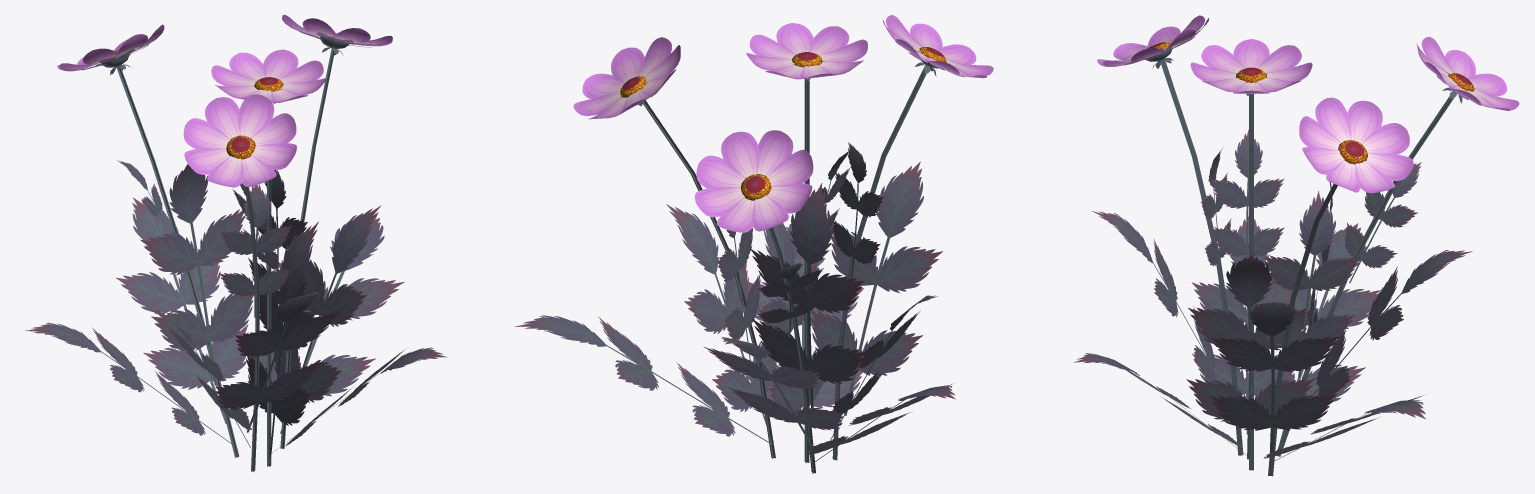
Rendered from dahlias.glb.
The picture shows the model from 3 angles, left to right: view 1: azimuth 30°, elevation 25°; view 2: azimuth 150°, elevation 25°; view 3: azimuth 270°, elevation 25°; orthographic projection. The views are drawn at different scales.
Visible parts, largest first — view 1: DahliaFinal__1_:pPlane52, DahliaFinal__1_:pPlane55, DahliaFinal__1_:pPlane53, DahliaFinal__1_:pPlane24, DahliaFinal__1_:pPlane44, pPlane53, DahliaFinal__1_:pPlane60, DahliaFinal__1_:pPlane54, DahliaFinal__1_:pPlane61, DahliaFinal__1_:pPlane57, DahliaFinal__1_:pPlane50, DahliaFinal__1_:pPlane56 (+15 smaller); view 2: DahliaFinal__1_:pPlane24, DahliaFinal__1_:pPlane52, DahliaFinal__1_:pPlane53, DahliaFinal__1_:pPlane60, DahliaFinal__1_:pPlane44, DahliaFinal__1_:pPlane55, DahliaFinal__1_:pPlane54, pPlane53, DahliaFinal__1_:pPlane57, DahliaFinal__1_:pPlane58, DahliaFinal__1_:pPlane59, DahliaFinal__1_:pPlane61 (+22 smaller); view 3: DahliaFinal__1_:pPlane53, pPlane53, DahliaFinal__1_:pPlane57, DahliaFinal__1_:pPlane44, DahliaFinal__1_:pPlane55, pPlane56, DahliaFinal__1_:pPlane56, DahliaFinal__1_:pPlane61, DahliaFinal__1_:pPlane24, DahliaFinal__1_:pPlane59, DahliaFinal__1_:pPlane48, DahliaFinal__1_:pPlane60 (+17 smaller).
Boxes of the visible parts, x1=… form: DahliaFinal__1_:pPlane52: x1=141, y1=164, x2=254, y2=385; DahliaFinal__1_:pPlane55: x1=116, y1=197, x2=248, y2=423; DahliaFinal__1_:pPlane53: x1=273, y1=205, x2=381, y2=433; DahliaFinal__1_:pPlane24: x1=215, y1=291, x2=341, y2=432; DahliaFinal__1_:pPlane44: x1=211, y1=49, x2=326, y2=102; pPlane53: x1=246, y1=221, x2=319, y2=456; DahliaFinal__1_:pPlane60: x1=253, y1=214, x2=404, y2=433; DahliaFinal__1_:pPlane54: x1=219, y1=184, x2=291, y2=317; DahliaFinal__1_:pPlane61: x1=25, y1=322, x2=233, y2=445; DahliaFinal__1_:pPlane57: x1=248, y1=170, x2=307, y2=304; DahliaFinal__1_:pPlane50: x1=116, y1=66, x2=239, y2=457; DahliaFinal__1_:pPlane56: x1=146, y1=308, x2=251, y2=447; DahliaFinal__1_:pPlane24: x1=810, y1=161, x2=942, y2=415; DahliaFinal__1_:pPlane52: x1=749, y1=183, x2=866, y2=407; DahliaFinal__1_:pPlane53: x1=666, y1=204, x2=776, y2=442; DahliaFinal__1_:pPlane60: x1=515, y1=315, x2=772, y2=444; DahliaFinal__1_:pPlane44: x1=746, y1=23, x2=867, y2=79; DahliaFinal__1_:pPlane55: x1=703, y1=336, x2=843, y2=446; DahliaFinal__1_:pPlane54: x1=832, y1=142, x2=883, y2=278; pPlane53: x1=757, y1=223, x2=823, y2=414; DahliaFinal__1_:pPlane57: x1=716, y1=228, x2=760, y2=361; DahliaFinal__1_:pPlane58: x1=747, y1=219, x2=863, y2=408; DahliaFinal__1_:pPlane59: x1=757, y1=262, x2=823, y2=332; DahliaFinal__1_:pPlane61: x1=806, y1=383, x2=955, y2=461; DahliaFinal__1_:pPlane53: x1=1209, y1=301, x2=1338, y2=452; pPlane53: x1=1186, y1=254, x2=1316, y2=459; DahliaFinal__1_:pPlane57: x1=1263, y1=191, x2=1361, y2=377; DahliaFinal__1_:pPlane44: x1=1190, y1=39, x2=1312, y2=93; DahliaFinal__1_:pPlane55: x1=1311, y1=250, x2=1472, y2=397; pPlane56: x1=1209, y1=129, x2=1284, y2=258; DahliaFinal__1_:pPlane56: x1=1192, y1=216, x2=1293, y2=434; DahliaFinal__1_:pPlane61: x1=1248, y1=223, x2=1380, y2=442; DahliaFinal__1_:pPlane24: x1=1092, y1=211, x2=1222, y2=383; DahliaFinal__1_:pPlane59: x1=1344, y1=162, x2=1421, y2=283; DahliaFinal__1_:pPlane48: x1=1161, y1=58, x2=1243, y2=455; DahliaFinal__1_:pPlane60: x1=1263, y1=394, x2=1426, y2=461.
Size of the model in its own units: 12.79 by 11.24 by 11.69.
1 material, 1 textured.
